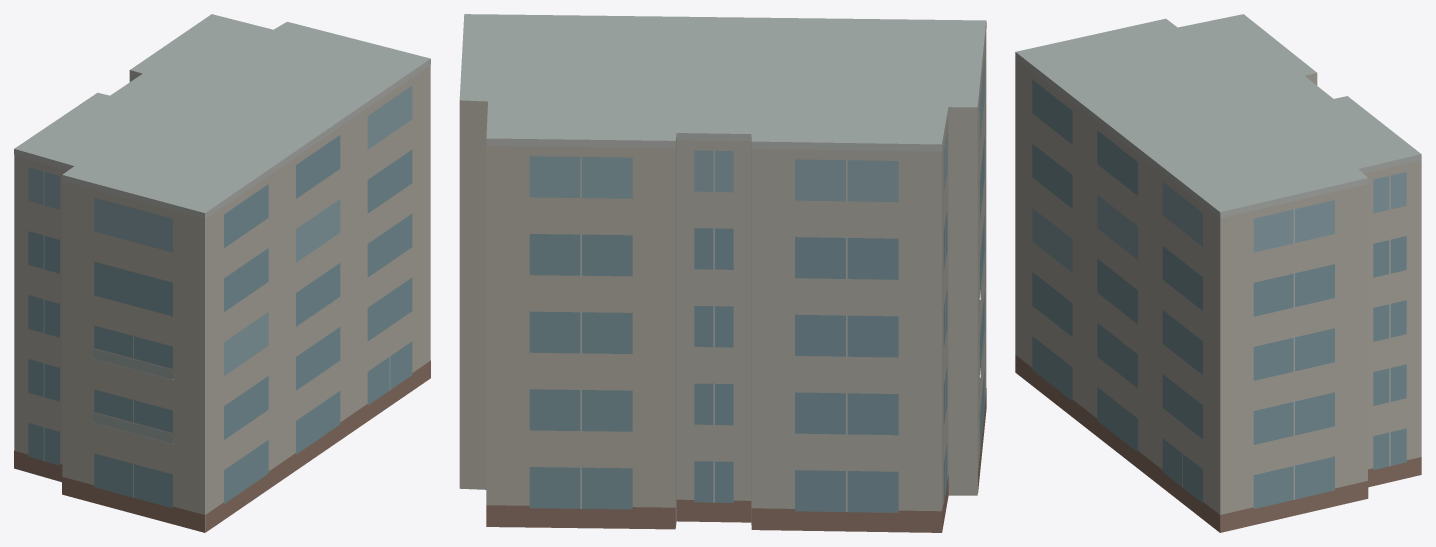
The model's file is survey-upis-32710326.glb.
The picture shows the model from 3 angles, left to right: view 1: azimuth 30°, elevation 25°; view 2: azimuth 150°, elevation 25°; view 3: azimuth 270°, elevation 25°; orthographic projection. The views are drawn at different scales.
Visible parts, largest first — view 1: survey-upis-32710326.tmp; view 2: survey-upis-32710326.tmp; view 3: survey-upis-32710326.tmp.
Part boxes in pixels (box(x1,y1,x2,y2)): survey-upis-32710326.tmp: box(14, 14, 430, 532); survey-upis-32710326.tmp: box(459, 14, 986, 532); survey-upis-32710326.tmp: box(1015, 14, 1421, 532).
Bounding box in the file's own units: 17.11 × 12.9 × 14.82.
